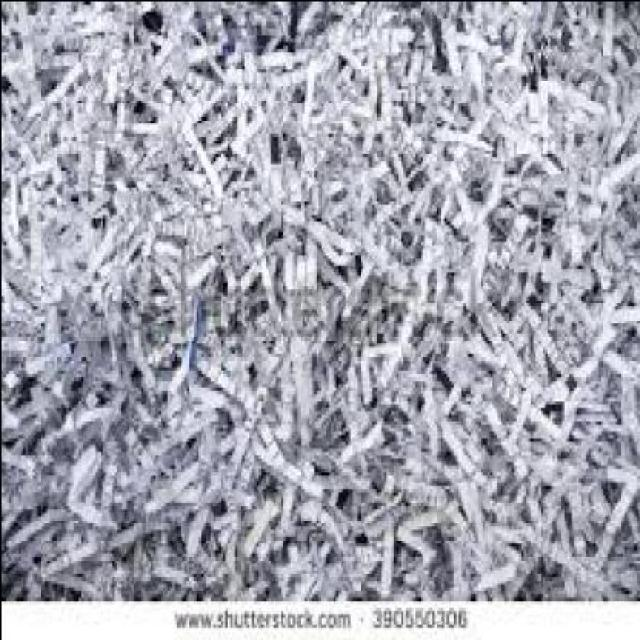PAPER: (1, 1, 638, 594)
